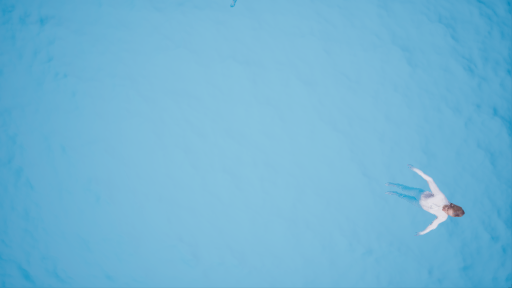person: (389, 163, 468, 238)
